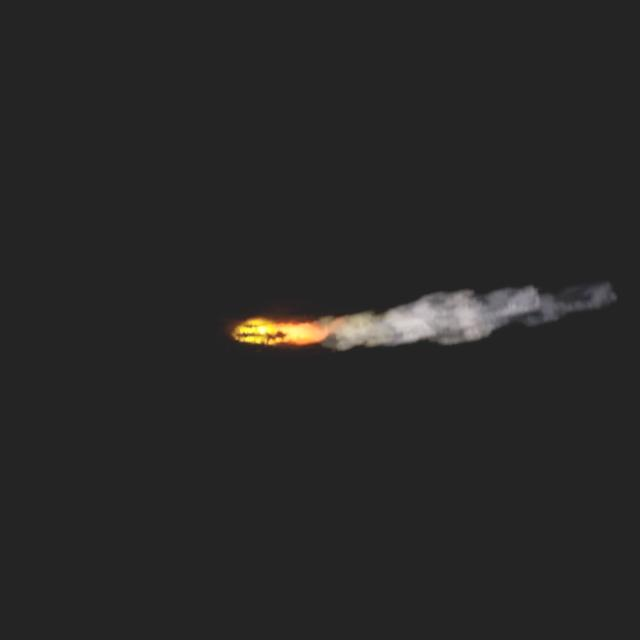fire: (226, 310, 344, 352)
smoke: (332, 274, 612, 354)
